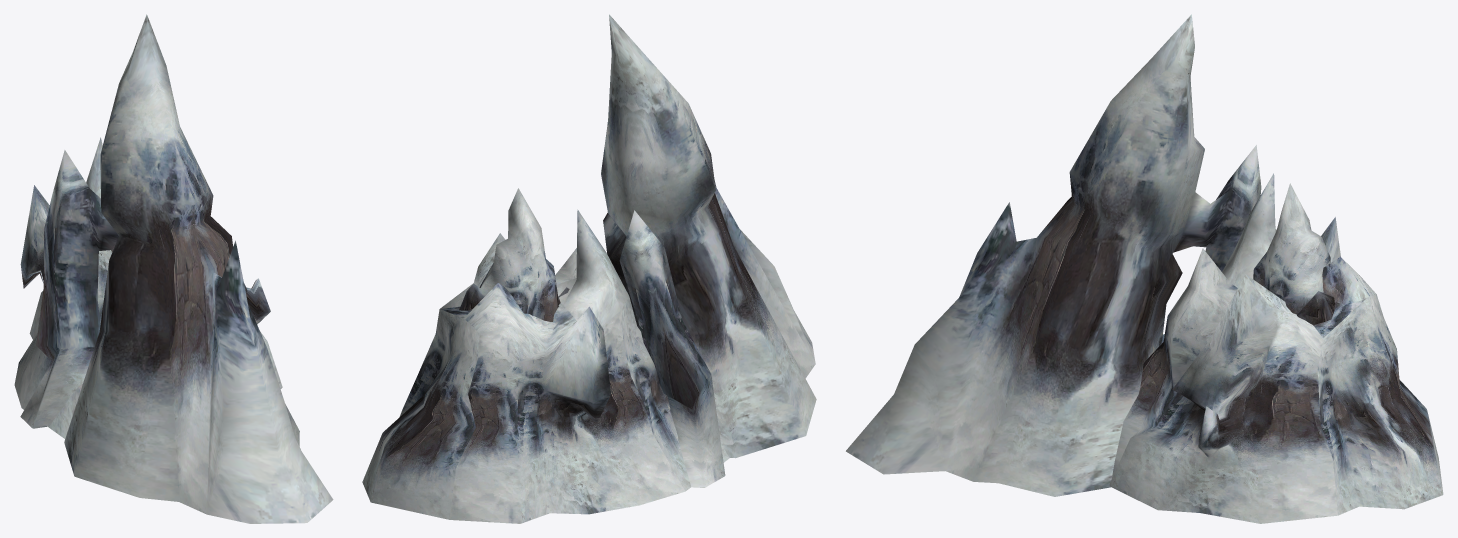
The model's file is S_Rock_White016.FBX.
3 renders of one model, left to right at view 1: azimuth 30°, elevation 25°; view 2: azimuth 150°, elevation 25°; view 3: azimuth 270°, elevation 25°, orthographic. The views are drawn at different scales.
Parts seen in each view (by area): view 1: S_Rock_White016; view 2: S_Rock_White016; view 3: S_Rock_White016.
Boxes of the visible parts, bbox=[...] form: S_Rock_White016: bbox=[14, 14, 333, 523]; S_Rock_White016: bbox=[362, 14, 816, 523]; S_Rock_White016: bbox=[846, 14, 1443, 523].
Size of the model in its own units: 691 by 1175 by 944.
